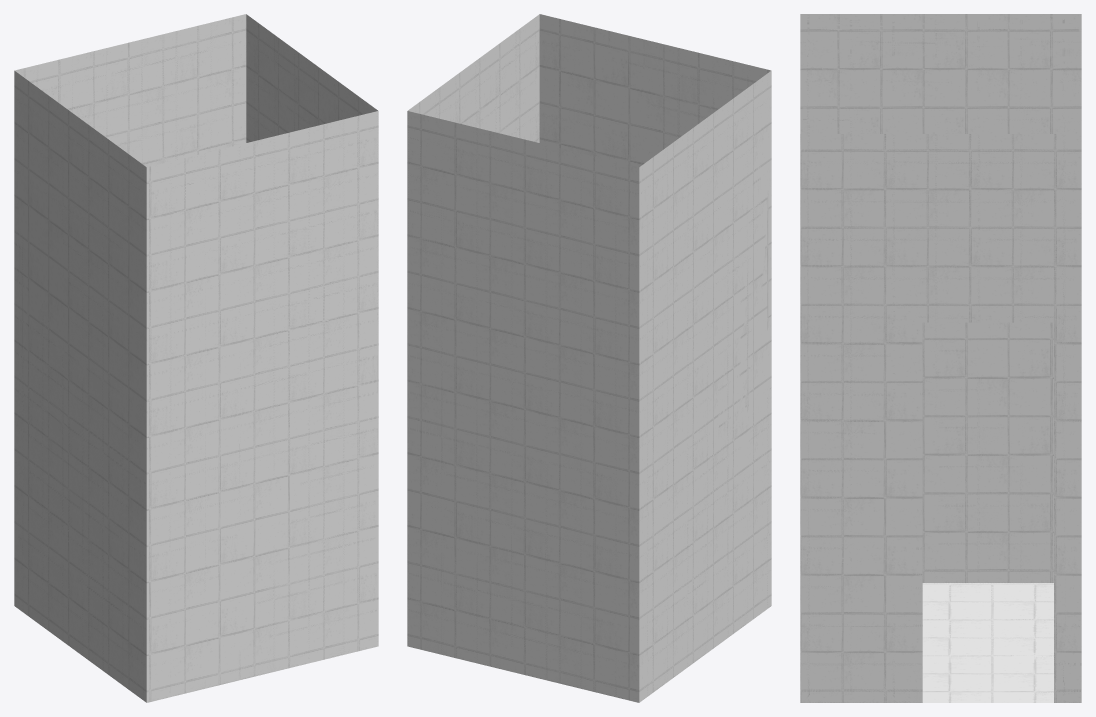
Rendered from CUA015.obj.
3 views of the same model, side by side, from view 1: azimuth 30°, elevation 25°; view 2: azimuth 150°, elevation 25°; view 3: azimuth 270°, elevation 25° (orthographic). The views are drawn at different scales.
Visible parts, largest first — view 1: Mesh1 CUA015 Model; view 2: Mesh1 CUA015 Model; view 3: Mesh1 CUA015 Model.
Boxes of the visible parts, left/top/right/bottom form: Mesh1 CUA015 Model: left=14, top=14, right=378, bottom=702; Mesh1 CUA015 Model: left=407, top=14, right=771, bottom=702; Mesh1 CUA015 Model: left=800, top=14, right=1081, bottom=702.
Bounding box in the file's own units: 1.36 × 3 × 1.34.
Materials: 2 (1 with a texture image).
